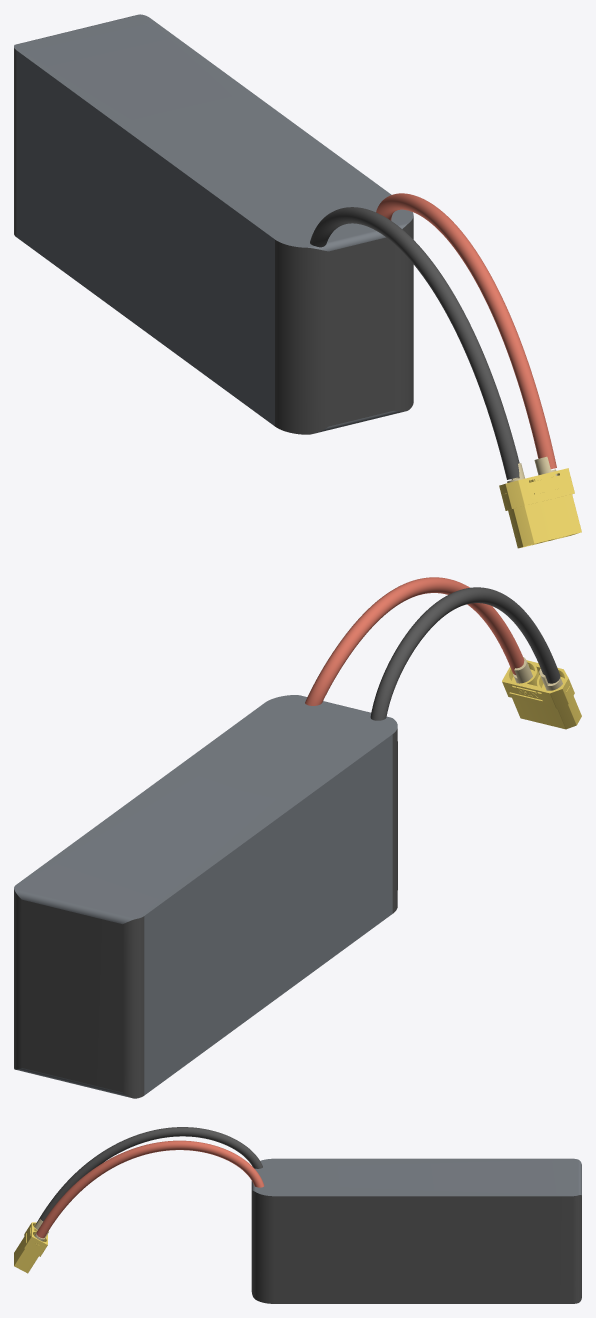
The model's file is tattu_battery_pbr.glb.
3 views of the same model, one above another, from view 1: azimuth 30°, elevation 25°; view 2: azimuth 150°, elevation 25°; view 3: azimuth 270°, elevation 25° (orthographic). The views are drawn at different scales.
Parts seen in each view (by area): view 1: bhaktaj_wrapped_pack, bhaktaj_cable_black, bhaktaj_cable_red, bhaktaj_XT_insulator; view 2: bhaktaj_wrapped_pack, bhaktaj_cable_black, bhaktaj_cable_red, bhaktaj_XT_insulator; view 3: bhaktaj_cable_black, bhaktaj_wrapped_pack, bhaktaj_cable_red, bhaktaj_XT_insulator.
Boxes of the visible parts, x1,y1,x2,y2 form: bhaktaj_wrapped_pack: (14,14,413,433); bhaktaj_cable_black: (14,48,519,479); bhaktaj_cable_red: (376,193,556,469); bhaktaj_XT_insulator: (499,468,581,548); bhaktaj_wrapped_pack: (14,695,397,1097); bhaktaj_cable_black: (14,587,560,1098); bhaktaj_cable_red: (305,577,524,705); bhaktaj_XT_insulator: (502,660,581,729); bhaktaj_cable_black: (36,1127,581,1303); bhaktaj_wrapped_pack: (251,1158,581,1196); bhaktaj_cable_red: (36,1140,264,1238); bhaktaj_XT_insulator: (14,1222,47,1273).
Size of the model in its own units: 47 by 86.53 by 301.
